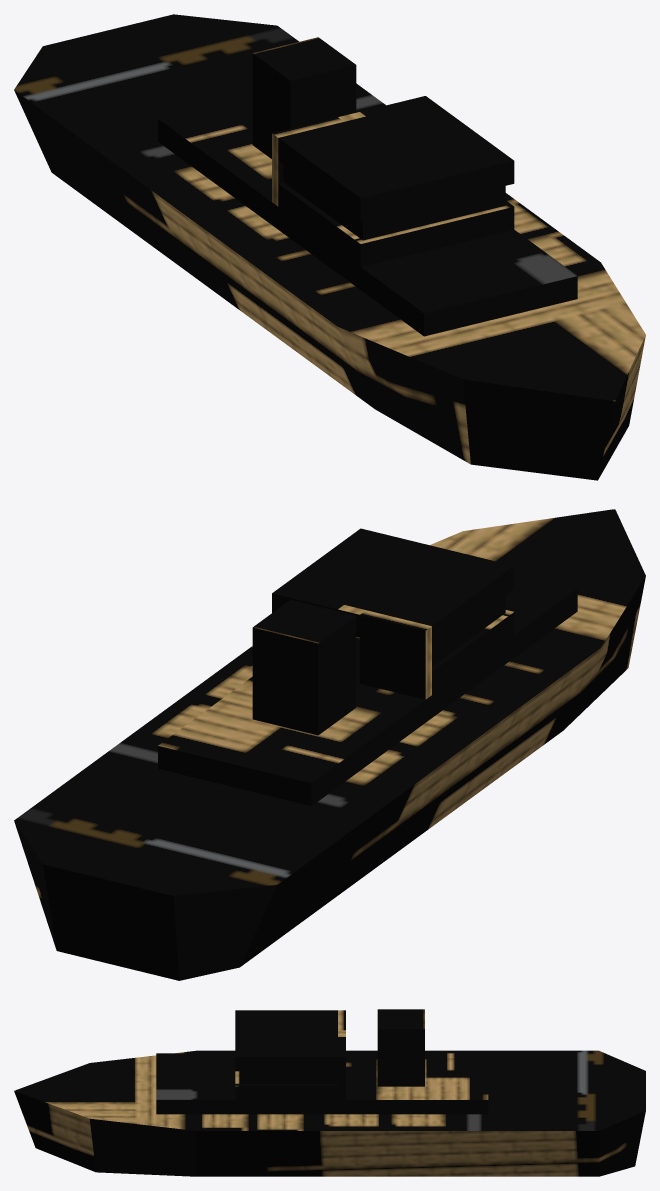
File: cruiser.obj
3 renders of one model, top to bottom at view 1: azimuth 30°, elevation 25°; view 2: azimuth 150°, elevation 25°; view 3: azimuth 270°, elevation 25°, orthographic. The views are drawn at different scales.
Parts seen in each view (by area): view 1: cylinder, cube1, cube11, cube, cube7, cube6, cube12, cube3, cube2, cube13, cube8, cube5; view 2: cylinder, cube1, cube, cube11, cube8, cube3, cube2, cube13, cube7, cube5, cube9; view 3: cylinder, cube1, cube11, cube, cube5, cube4, cube14, cube7, cube9, cube3.
Boxes of the visible parts, left/top/right/bottom form: cylinder: left=14, top=14, right=645, bottom=480; cube1: left=158, top=95, right=577, bottom=336; cube11: left=289, top=103, right=496, bottom=190; cube: left=252, top=37, right=356, bottom=158; cube7: left=354, top=156, right=514, bottom=220; cube6: left=354, top=202, right=514, bottom=266; cube12: left=363, top=186, right=505, bottom=240; cube3: left=278, top=135, right=364, bottom=215; cube2: left=278, top=182, right=359, bottom=261; cube13: left=283, top=165, right=362, bottom=239; cube8: left=272, top=117, right=343, bottom=206; cube5: left=421, top=100, right=507, bottom=158; cylinder: left=14, top=509, right=645, bottom=980; cube1: left=158, top=573, right=577, bottom=806; cube: left=252, top=599, right=356, bottom=735; cube11: left=289, top=536, right=496, bottom=623; cube8: left=359, top=610, right=431, bottom=699; cube3: left=421, top=568, right=507, bottom=648; cube2: left=432, top=615, right=507, bottom=694; cube13: left=432, top=595, right=505, bottom=666; cube7: left=355, top=528, right=514, bottom=593; cube5: left=278, top=533, right=364, bottom=591; cube9: left=272, top=589, right=343, bottom=612; cylinder: left=14, top=1050, right=645, bottom=1176; cube1: left=156, top=1053, right=488, bottom=1114; cube11: left=243, top=1013, right=337, bottom=1053; cube: left=377, top=1009, right=424, bottom=1086; cube5: left=243, top=1053, right=337, bottom=1071; cube4: left=243, top=1084, right=337, bottom=1099; cube14: left=239, top=1071, right=337, bottom=1083; cube7: left=235, top=1010, right=243, bottom=1071; cube9: left=338, top=1037, right=345, bottom=1099; cube3: left=243, top=1010, right=337, bottom=1013.
Size of the model in its own units: 12 by 9 by 40.
